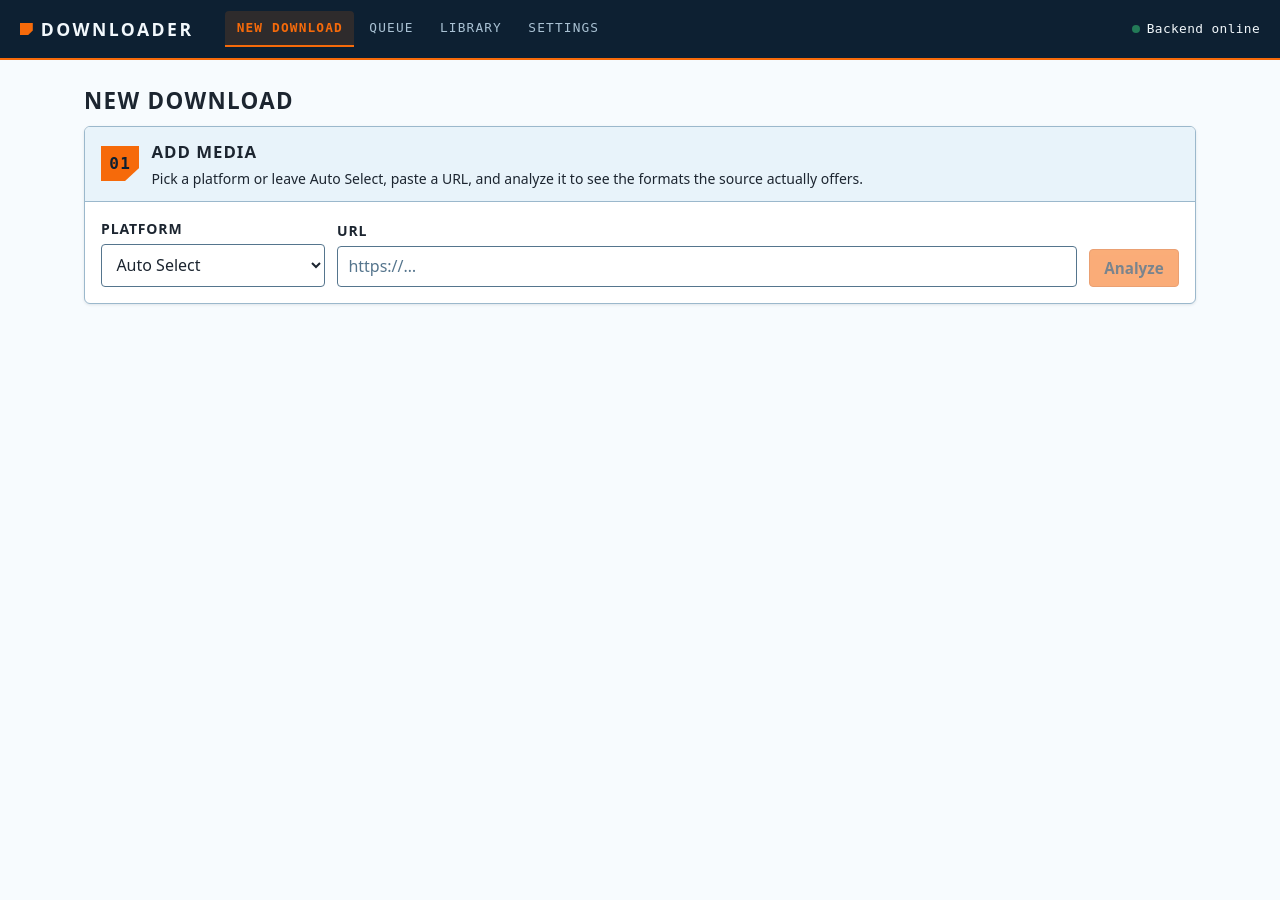
NewDownloadPage activity flow › does not start initial REST history until the EventSource opens
Type "https://www.youtube.com/watch?v=abc123" into the field labelled "URL".
click(707, 266); type("https://www.youtube.com/watch?v=abc123")  # box [337,246,1077,287]
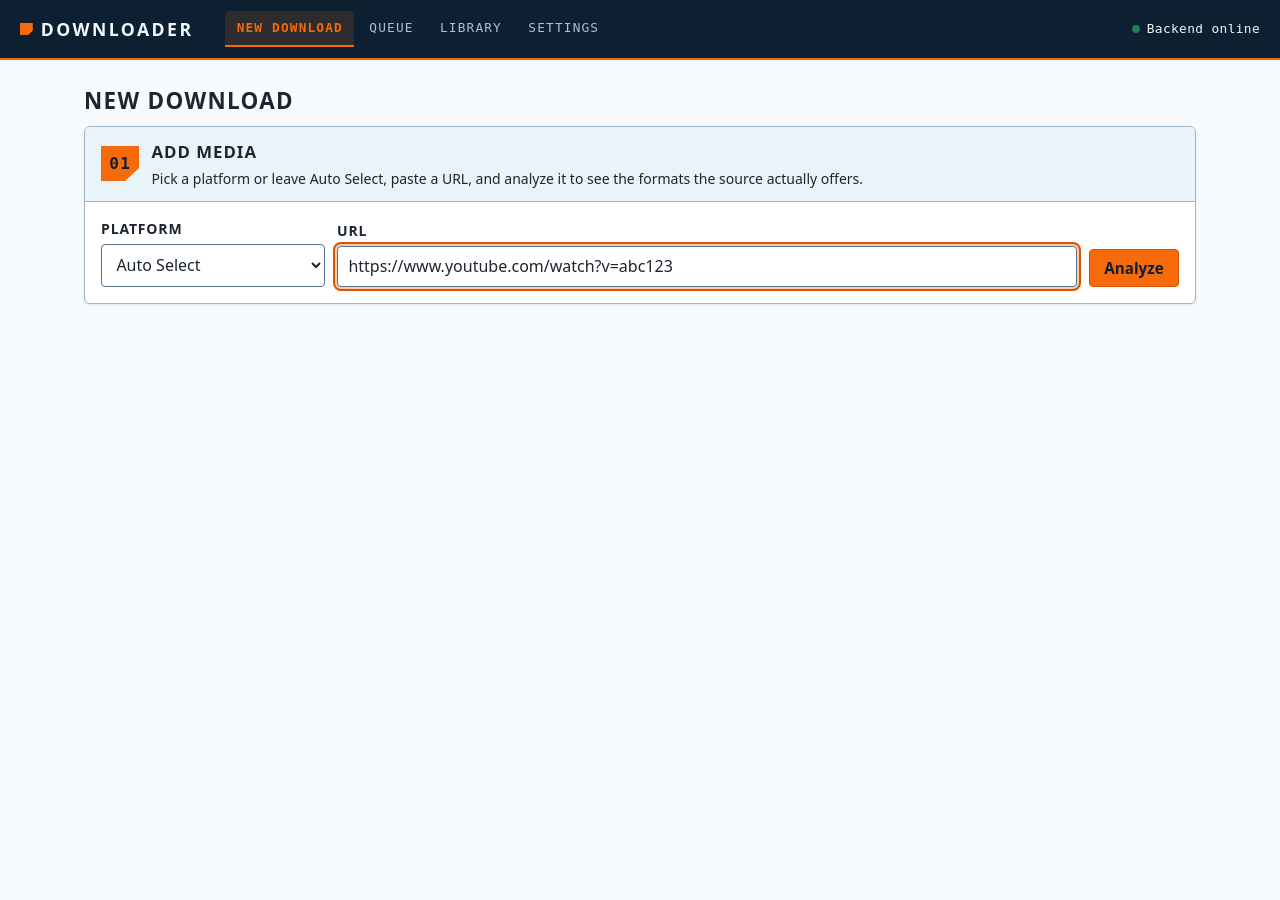
Click the button "Analyze".
click(1134, 268)  # box [1089,249,1179,287]
(page scrolled)
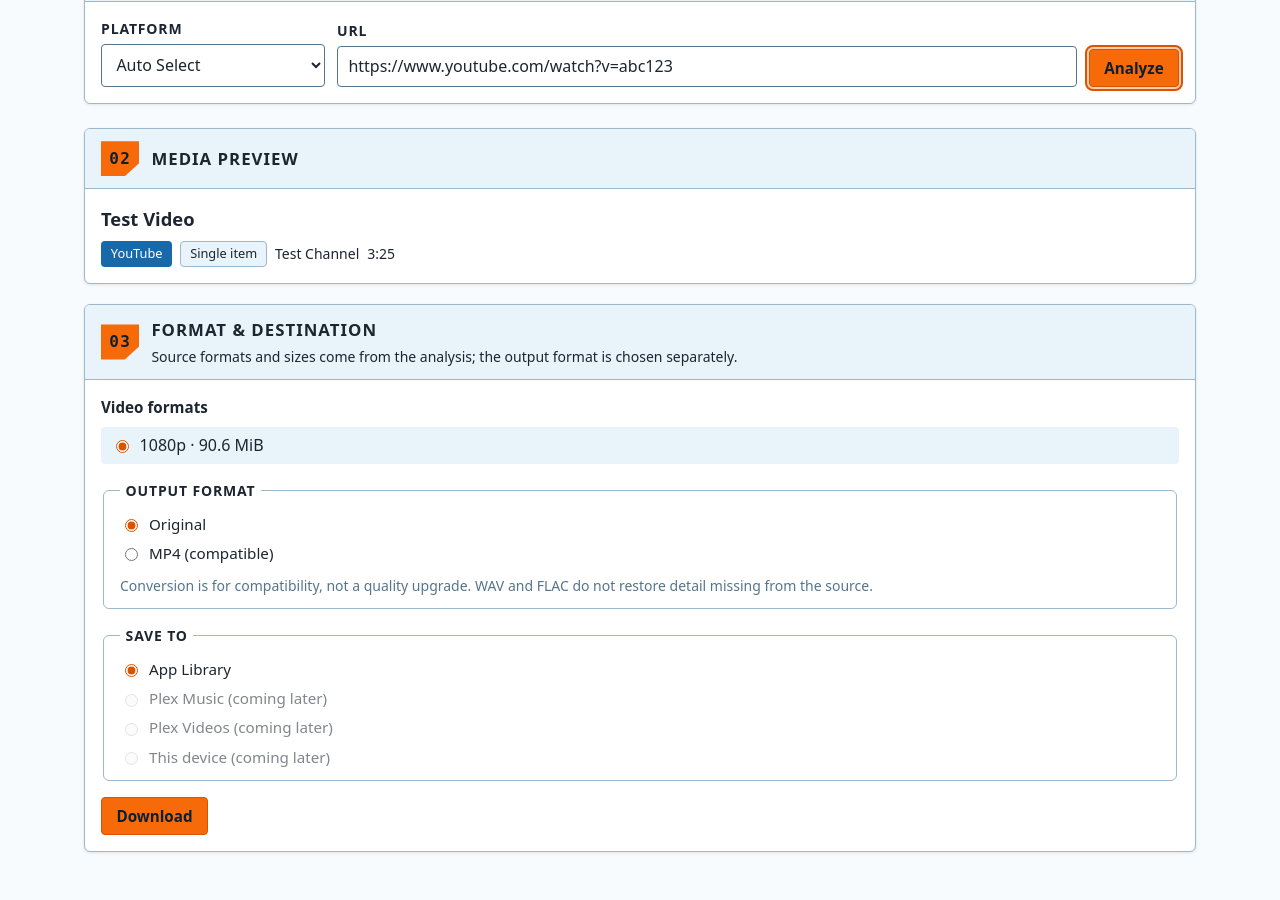
Expected: the heading "Test Video" is shown, [101,206,195,231]
Click the button "Download".
click(154, 816)  # box [101,797,208,835]
(page scrolled)
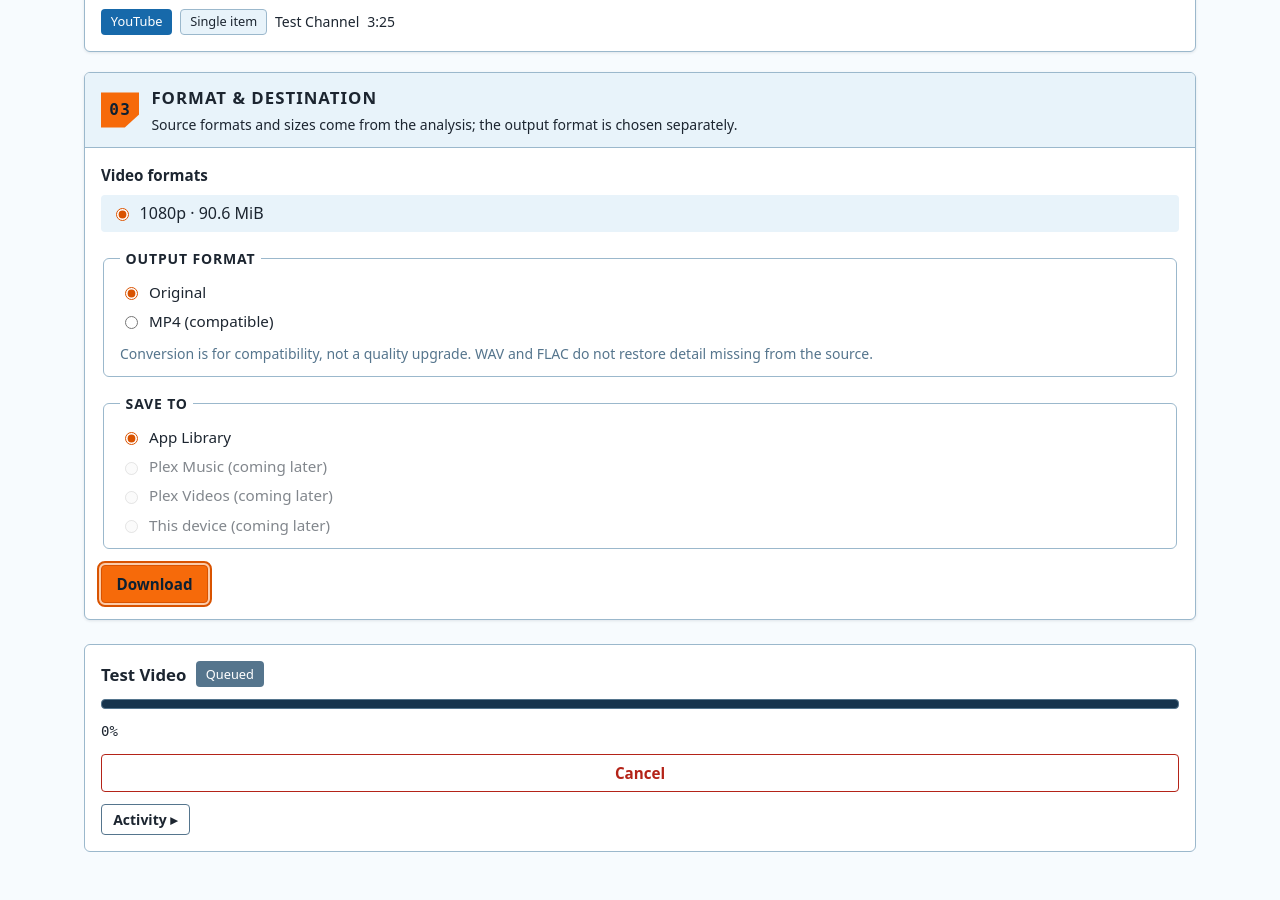
Expected: the text "Queued" is shown, [196,661,264,687]
